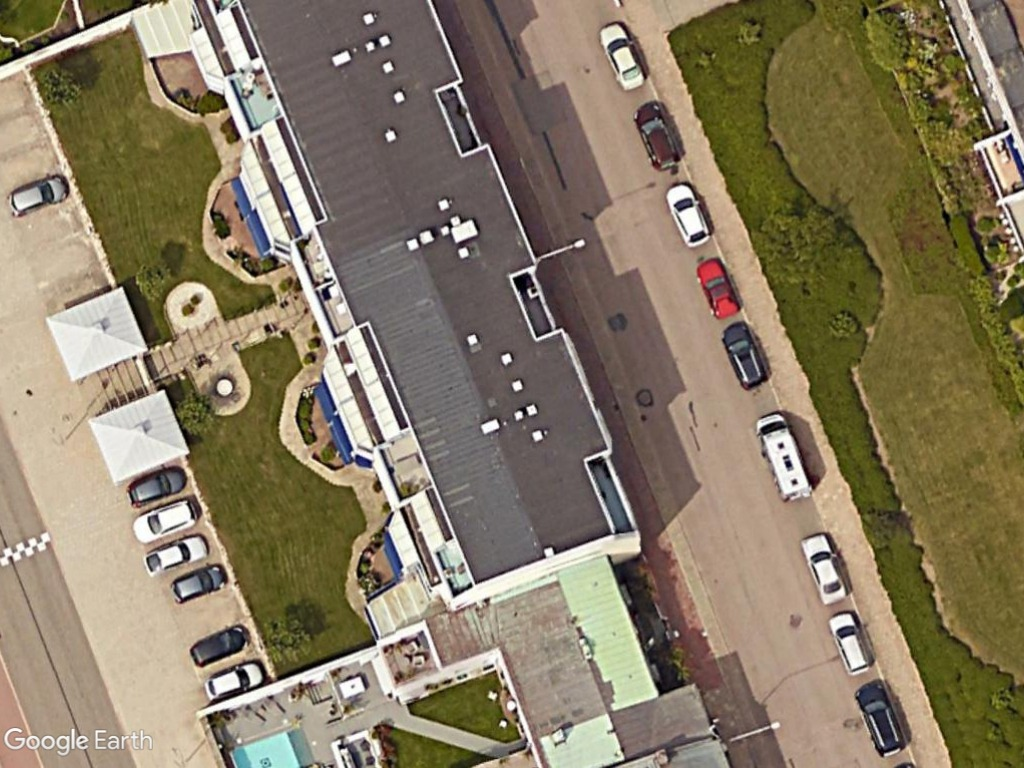car: (851, 677, 907, 761), (632, 98, 687, 173), (596, 20, 651, 93), (799, 530, 851, 607), (662, 179, 715, 251), (720, 319, 768, 393), (130, 495, 199, 545), (141, 531, 211, 580), (124, 460, 192, 510), (202, 657, 267, 708), (7, 171, 73, 221), (696, 255, 743, 324), (188, 620, 251, 671), (165, 558, 228, 608), (829, 608, 872, 680)
van: (753, 408, 817, 506)
